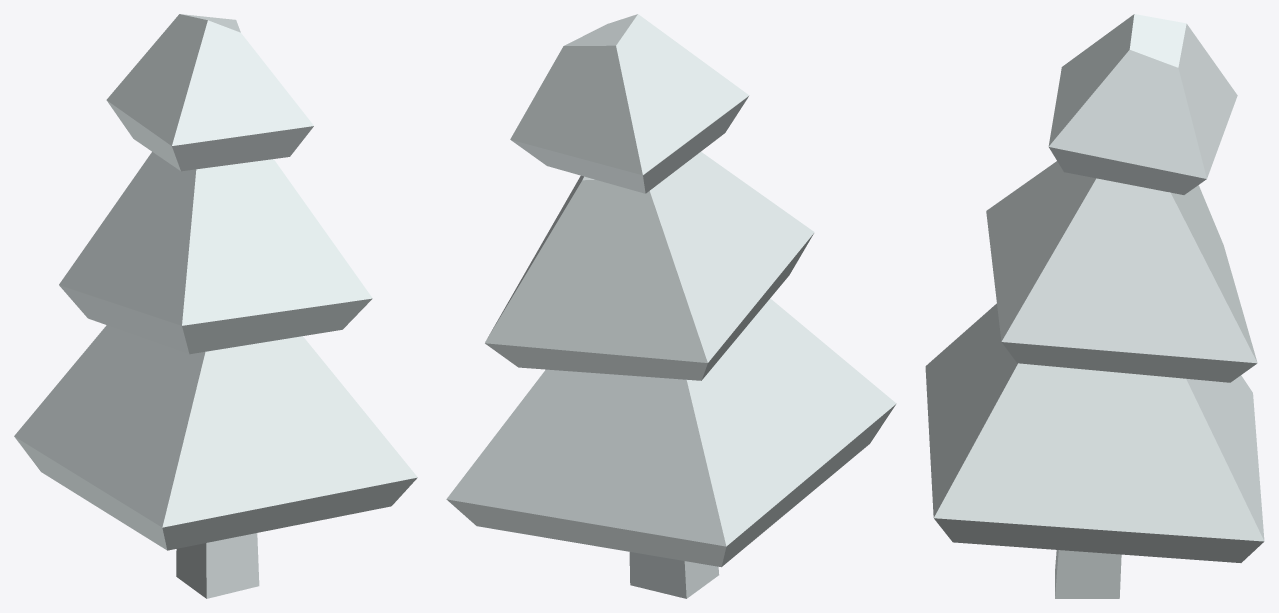
Rendered from Tree.003.fbx.
3 renders of one model, left to right at view 1: azimuth 30°, elevation 25°; view 2: azimuth 150°, elevation 25°; view 3: azimuth 270°, elevation 25°, orthographic. The views are drawn at different scales.
Visible parts, largest first — view 1: Tree.003; view 2: Tree.003; view 3: Tree.003.
Part boxes in pixels (x1,y1,x2,y2): Tree.003: (14,14,417,598); Tree.003: (446,14,896,598); Tree.003: (925,14,1264,598).
Bounding box in the file's own units: 0.7508 × 1.49 × 0.7907.
